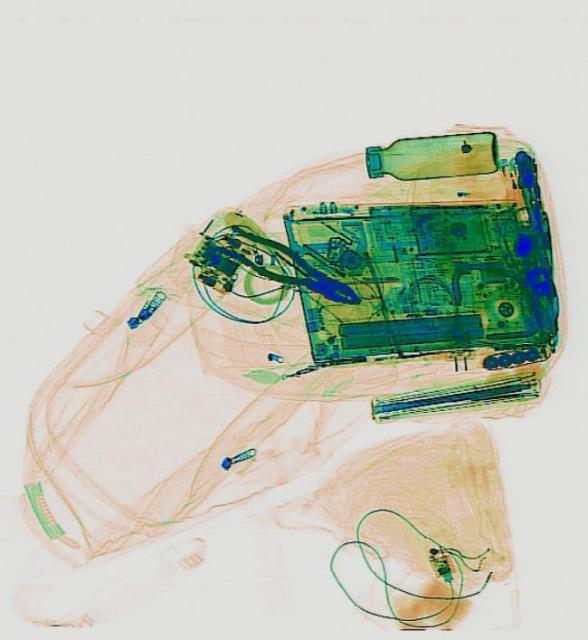Pliers: (207, 215, 367, 318)
